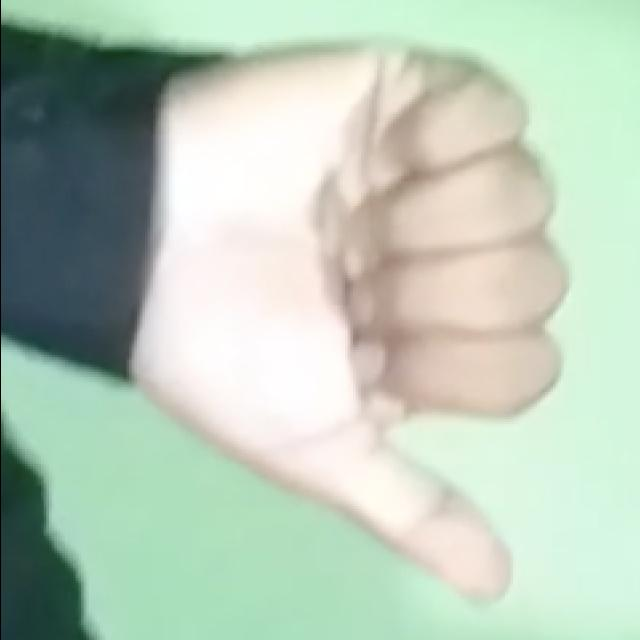A: (127, 21, 581, 618)
